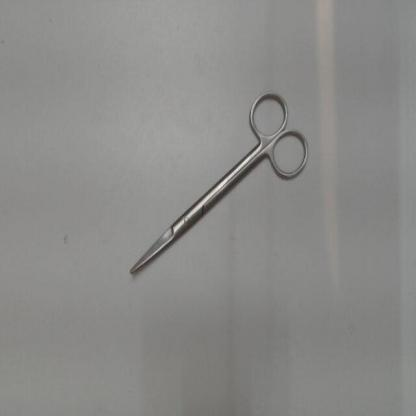Curved Mayo Scissors: (126, 87, 311, 279)
